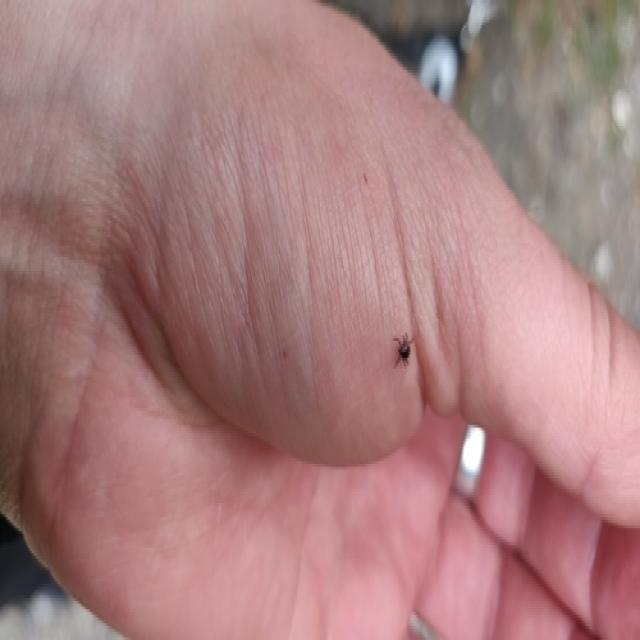Ixodes Ricinus-M: (393, 327, 413, 372)
